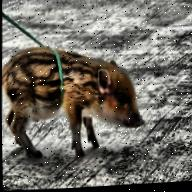boar: (1, 25, 161, 175)
